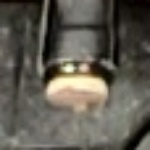bottle: (23, 25, 134, 132)
